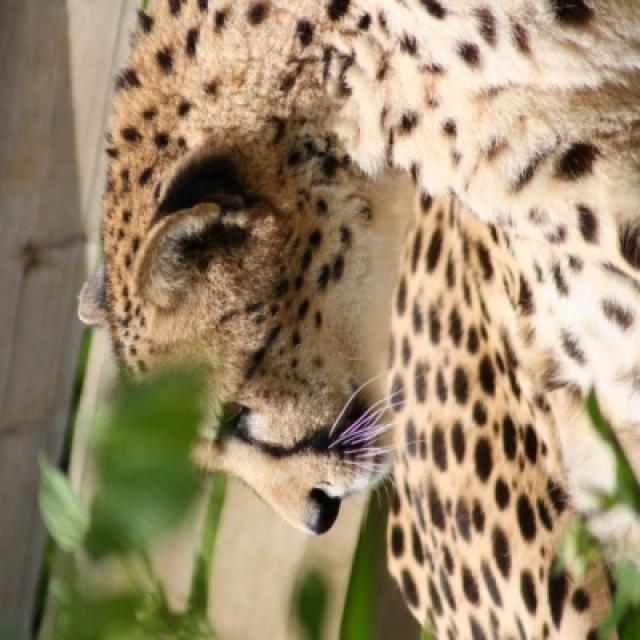Cheetah: (80, 0, 638, 638)
